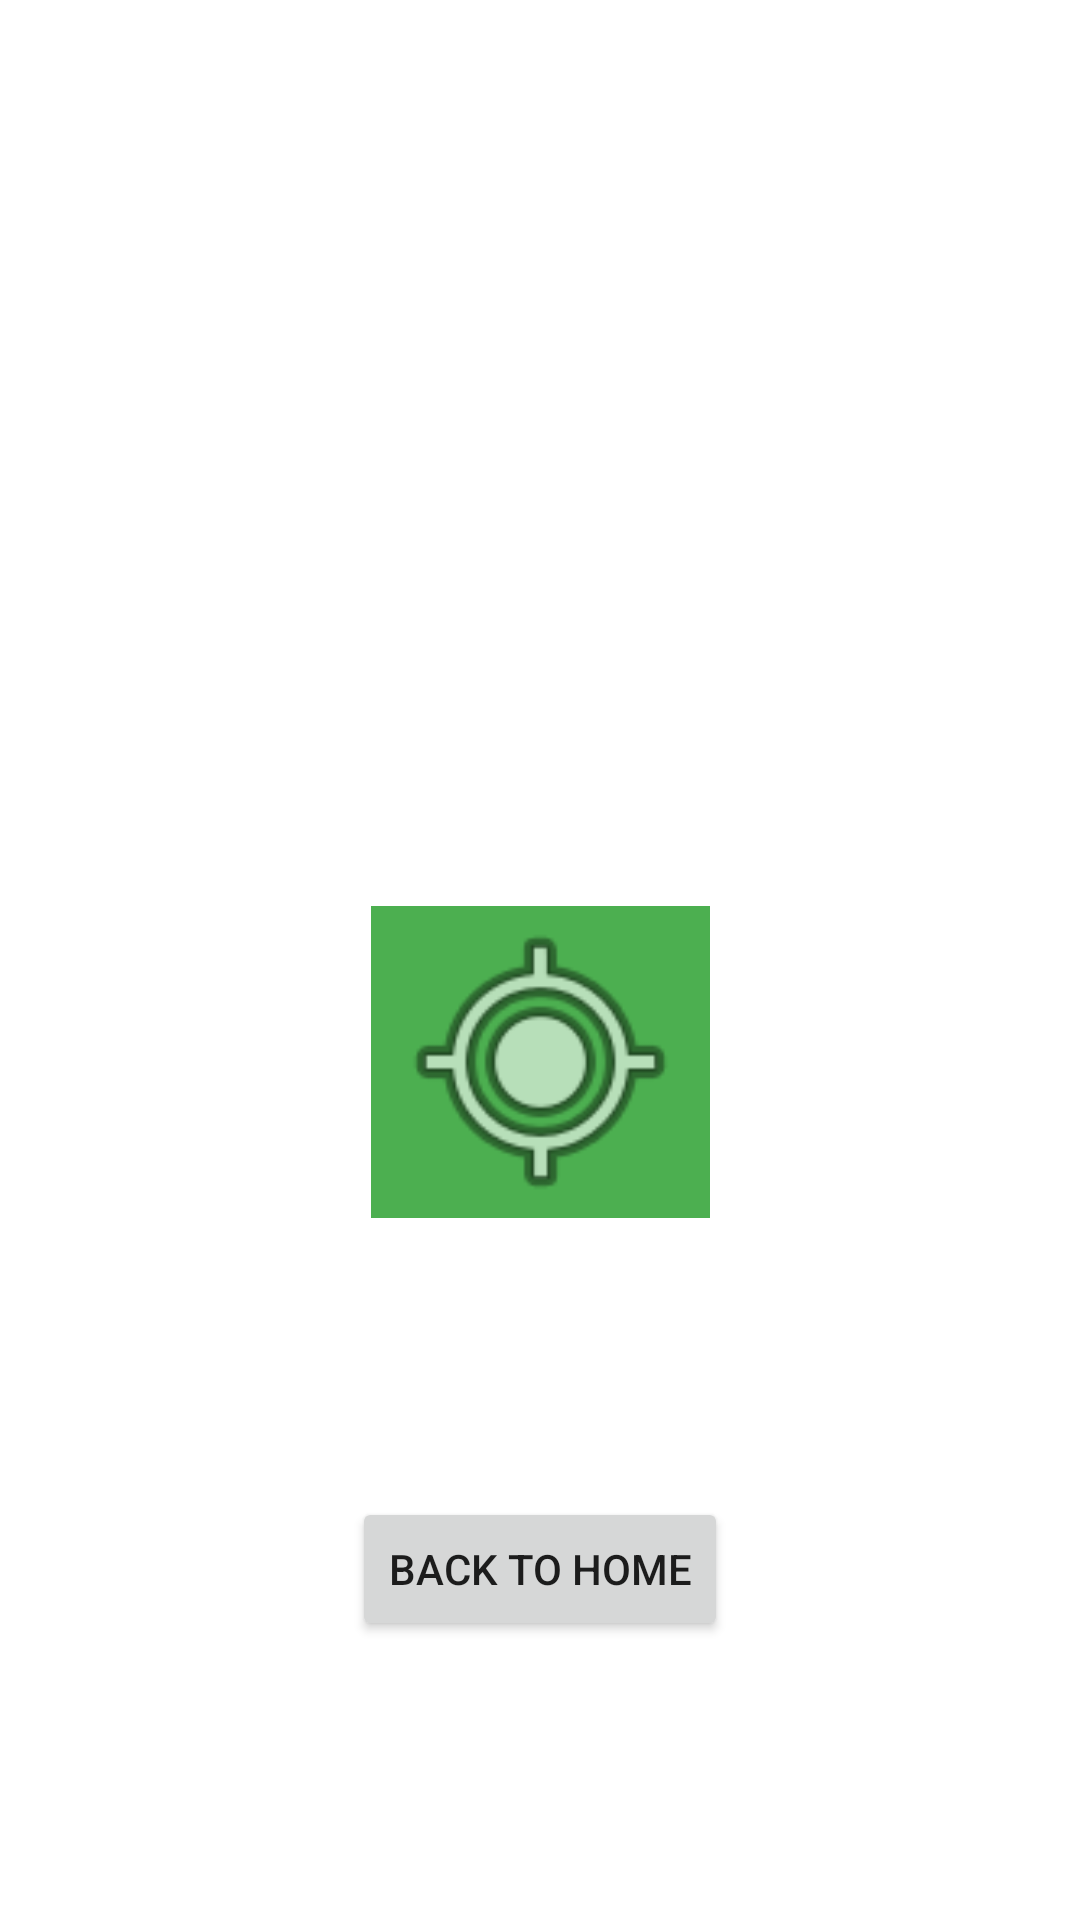

Point at icon controls on the screen. Image size 1080×1920, points as (x=x, y=y).
mylocation: (x=540, y=1062)
